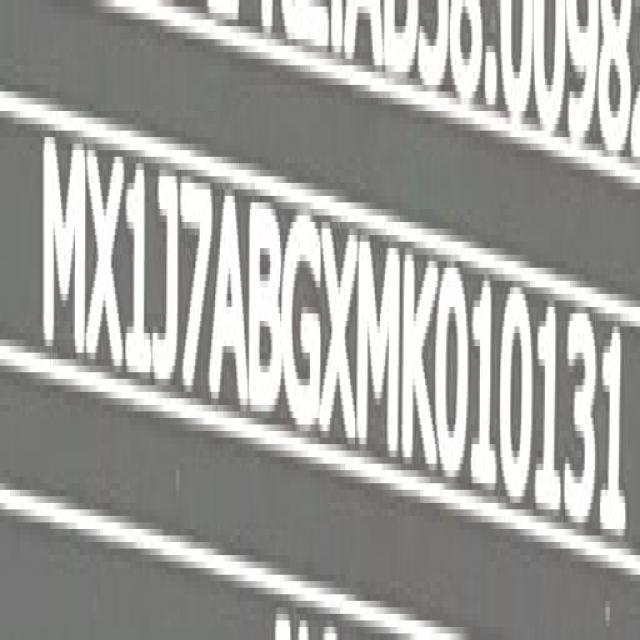0: (501, 280, 535, 515), (438, 257, 470, 490)
1: (536, 294, 566, 530), (127, 156, 157, 387), (600, 315, 628, 555), (470, 273, 497, 502)
3: (566, 306, 599, 542)
7: (180, 167, 214, 405)
A: (210, 192, 248, 416)
B: (250, 195, 282, 423)
G: (282, 208, 324, 443)
J: (153, 160, 179, 402)
K: (402, 246, 438, 477)
M: (42, 119, 87, 362), (361, 233, 404, 469)
X: (320, 217, 358, 450), (88, 138, 124, 379)
